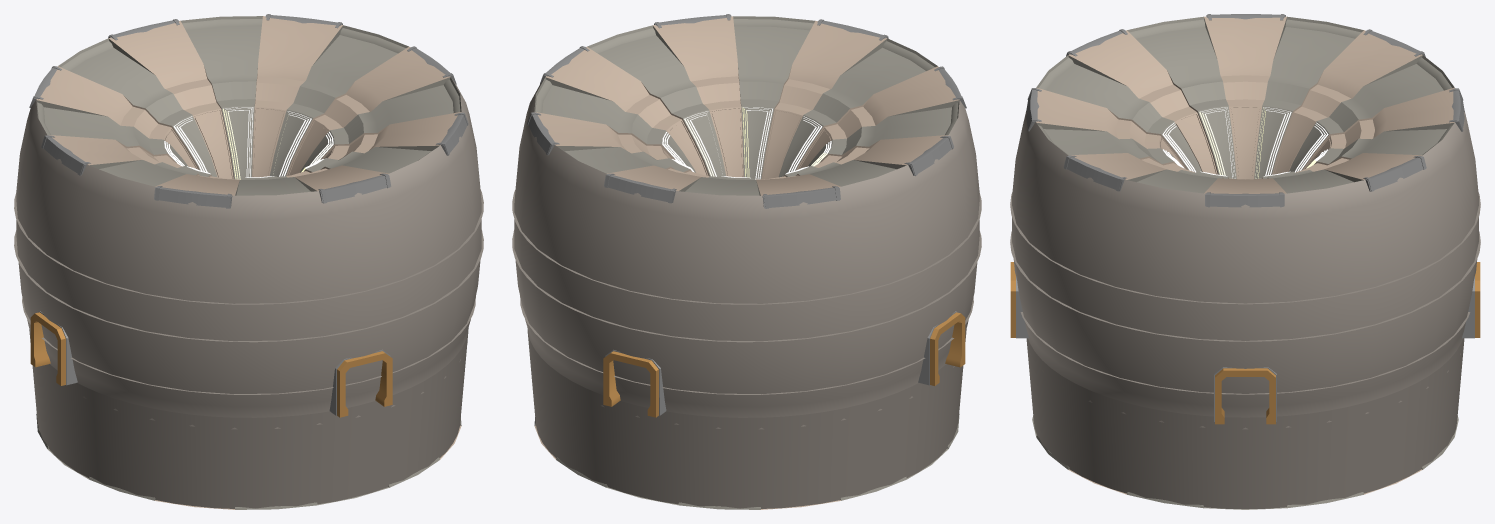
The model's file is Room_PowerCore_A_Mesh.fbx.
3 views of the same model, side by side, from view 1: azimuth 30°, elevation 25°; view 2: azimuth 150°, elevation 25°; view 3: azimuth 270°, elevation 25° (orthographic).
Parts seen in each view (by area): view 1: Power Chamber Room; view 2: Power Chamber Room; view 3: Power Chamber Room.
Part boxes in pixels (box(x1,y1,x2,y2)): Power Chamber Room: box(14, 14, 483, 509); Power Chamber Room: box(512, 14, 981, 509); Power Chamber Room: box(1010, 14, 1480, 509).
Size of the model in its own units: 2663 by 1970 by 2663.
